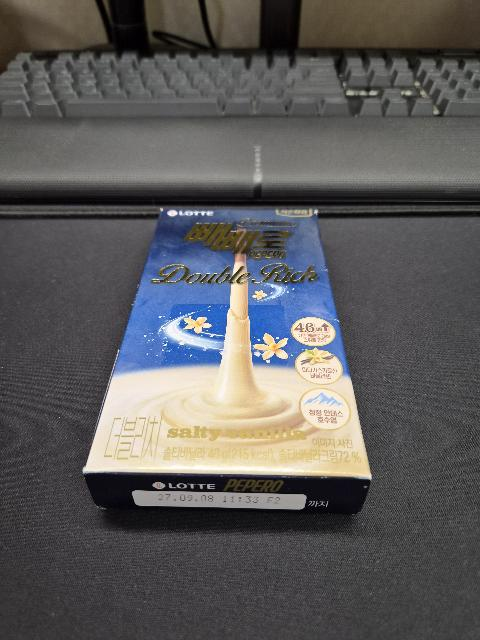pepero: (82, 207, 372, 515)
